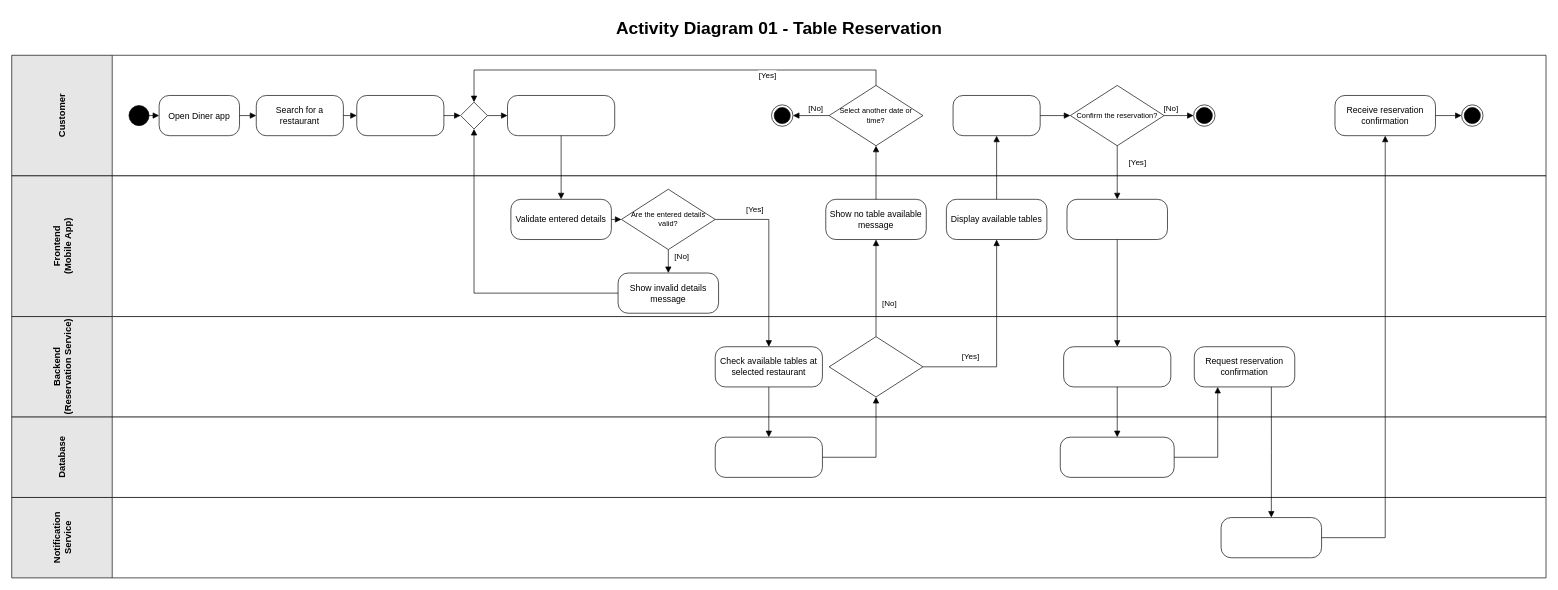
This 1558x590 diagram has some shape labels left out. Here are the shapes that lost their labels. From the top down, the centre of each, then its label:
At (x=400, y=115): "Select restaurant".
At (x=561, y=115): "Enter reservation date, time and number of guests".
At (x=996, y=115): "Select a table".
At (x=1116, y=219): "Send reservation request".
At (x=875, y=366): "Is a table available?".
At (x=1117, y=366): "Save reservation and update table status".
At (x=768, y=457): "Query tables for selected date and time".
At (x=1117, y=457): "Insert reservation record and update table status".
At (x=1271, y=537): "Send reservation confirmation".
